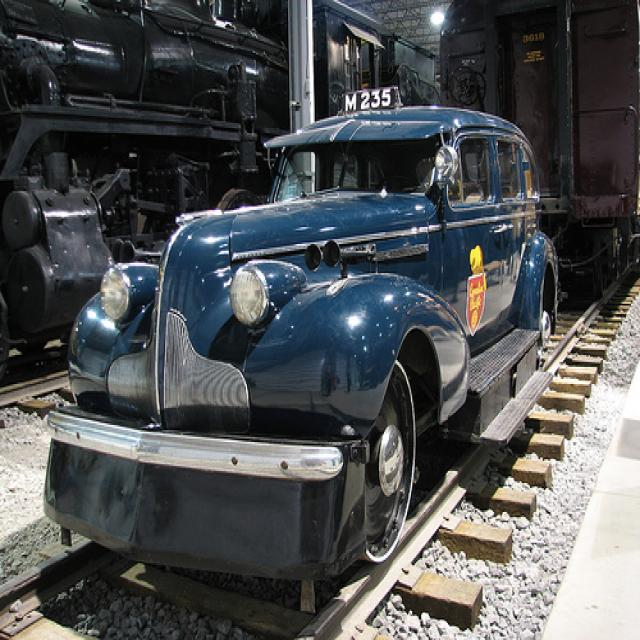Car: (32, 96, 564, 593)
